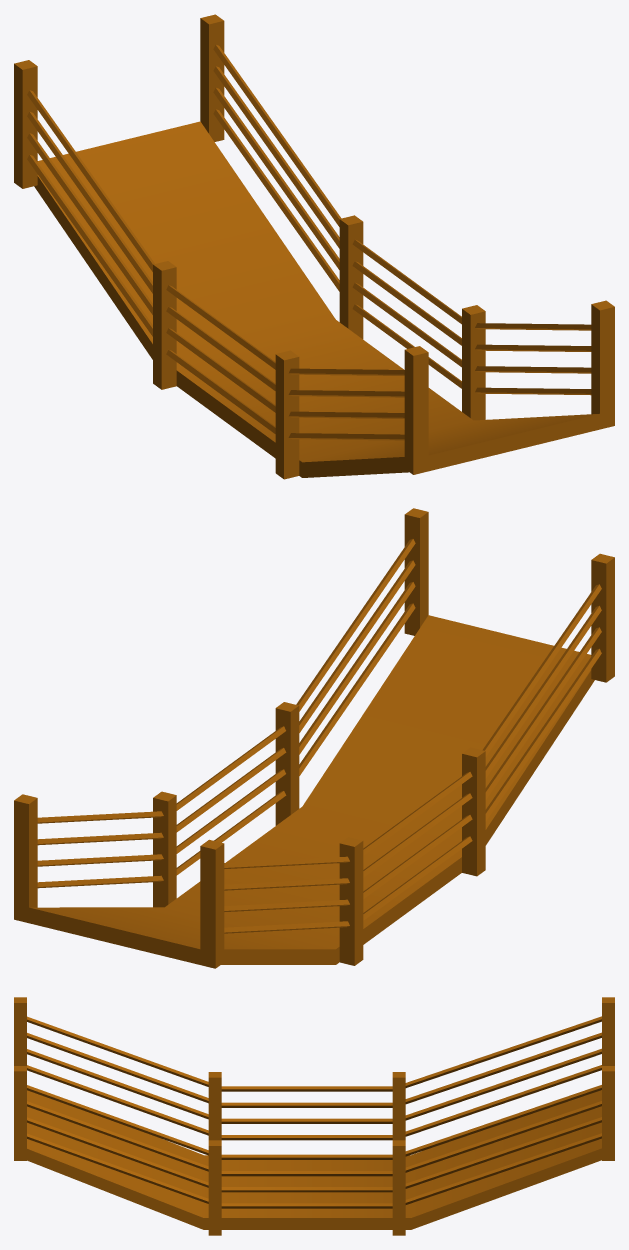
Rendered from BalconyBridgeA_1.fbx.
The picture shows the model from 3 angles, top to bottom: view 1: azimuth 30°, elevation 25°; view 2: azimuth 150°, elevation 25°; view 3: azimuth 270°, elevation 25°; orthographic projection. The views are drawn at different scales.
Visible parts, largest first — view 1: BalconyBridgeA_1; view 2: BalconyBridgeA_1; view 3: BalconyBridgeA_1.
Boxes of the visible parts, x1,y1,x2,y2 form: BalconyBridgeA_1: [14, 14, 614, 479]; BalconyBridgeA_1: [14, 508, 614, 968]; BalconyBridgeA_1: [14, 997, 614, 1235].
Bounding box in the file's own units: 164 × 170 × 563.
